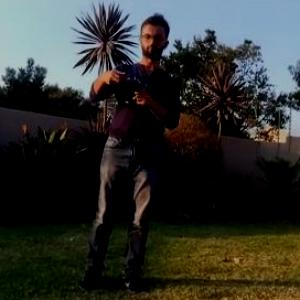follow: (73, 5, 185, 299)
